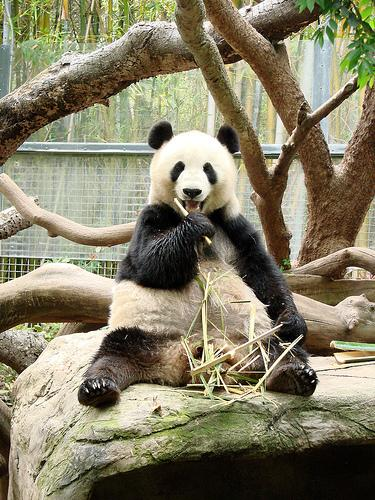panda: (78, 122, 317, 407)
